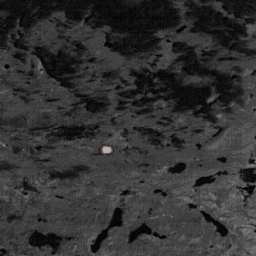Target: (99, 144, 115, 156)
